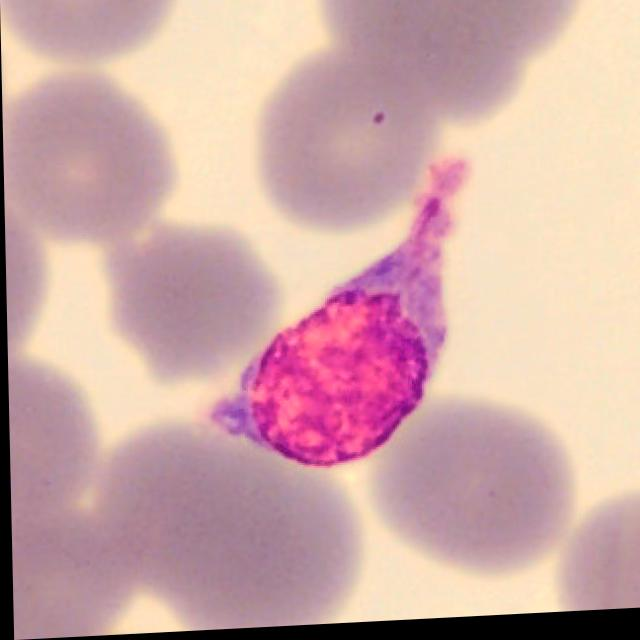Linfocito atipico: (207, 161, 468, 468)
